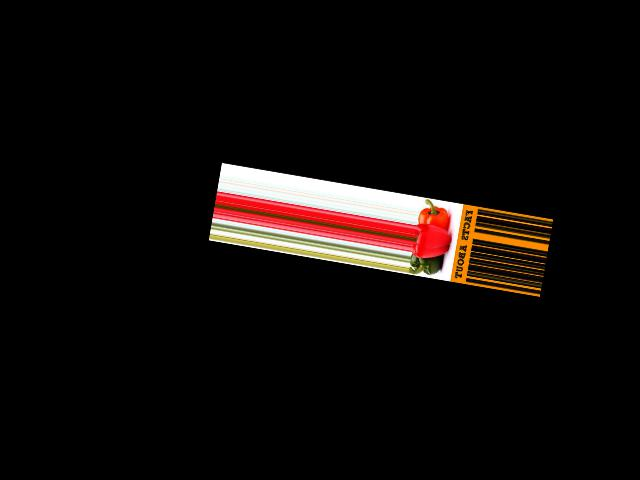bell_pepper: (408, 253, 448, 279)
